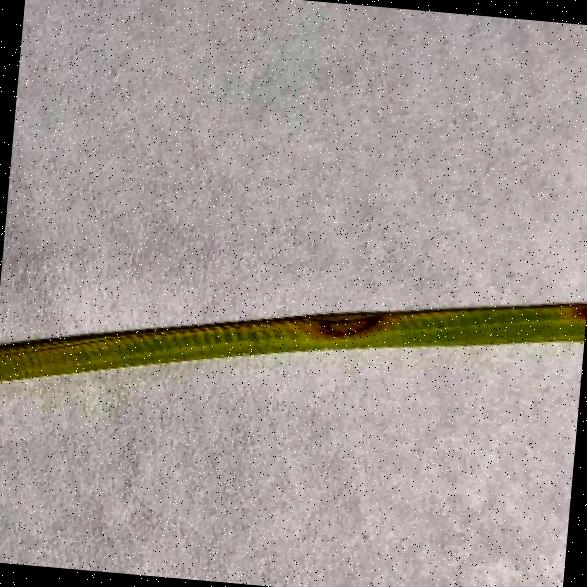Leaf_smut: (257, 281, 388, 364), (486, 291, 586, 338)
